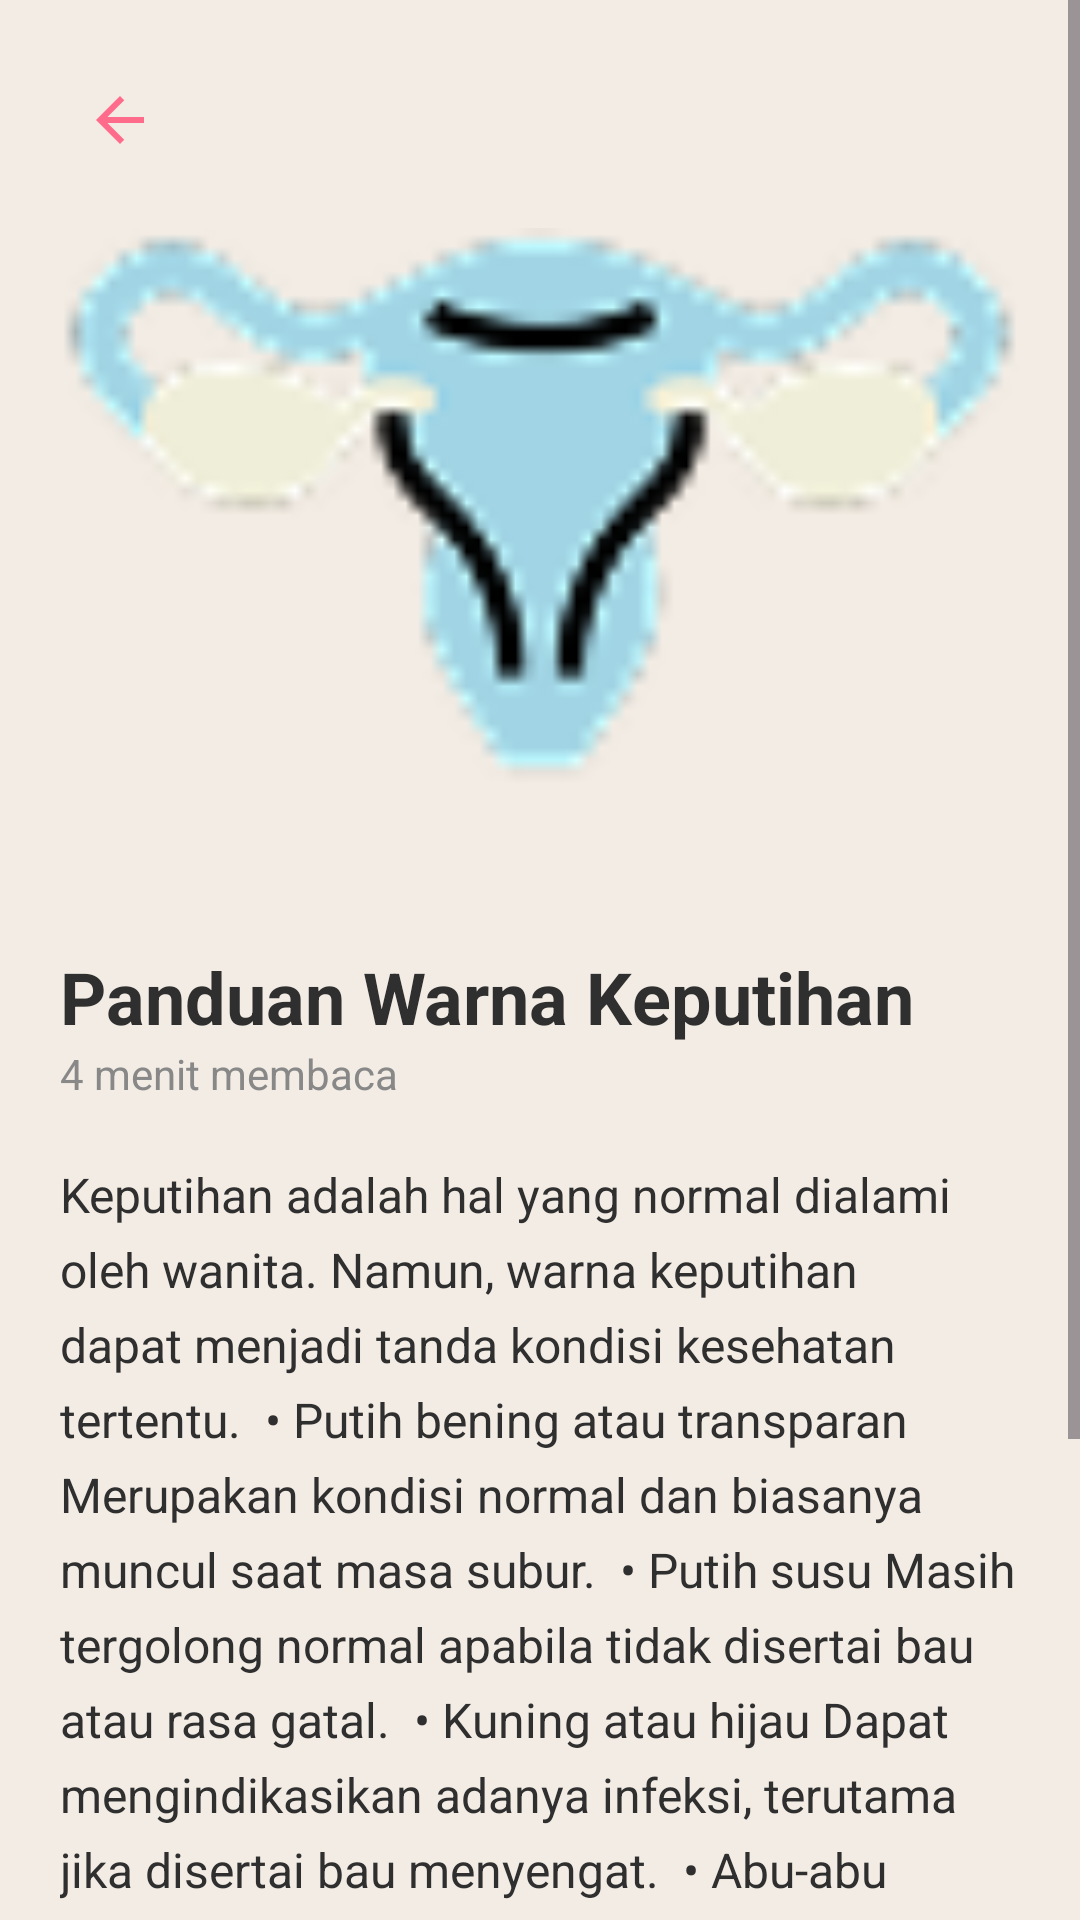

Locate icon controls on the screen. Image size 1080 × 1920, boxes as box=[x1, y1, x2, y2].
back: box=[96, 96, 144, 144]
